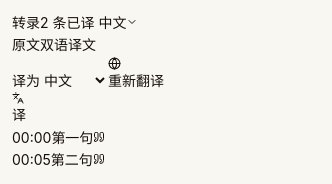
Scenario: LNTranscriptPanel 字幕编辑（原文/译文） › 原文模式：保存后合并后端返回的跟随译文，译文视图即时更新
Double-click the text "第一句": (59, 137) [12,129,105,146]
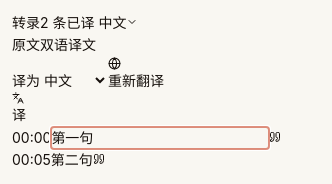
Replace the text in the field showing "第一句" with "第一句改": (160, 138) [51,127,269,149]
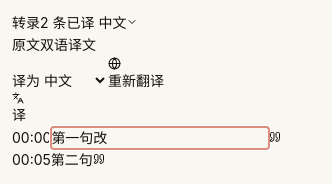
Press Enter in the field showing "第一句", box [51,127,269,149]
Click the button "译文": (82, 46) [68,34,96,57]
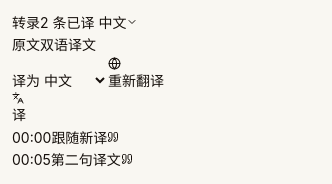
Result: the text "跟随新译" is shown at [51,129,107,146]
